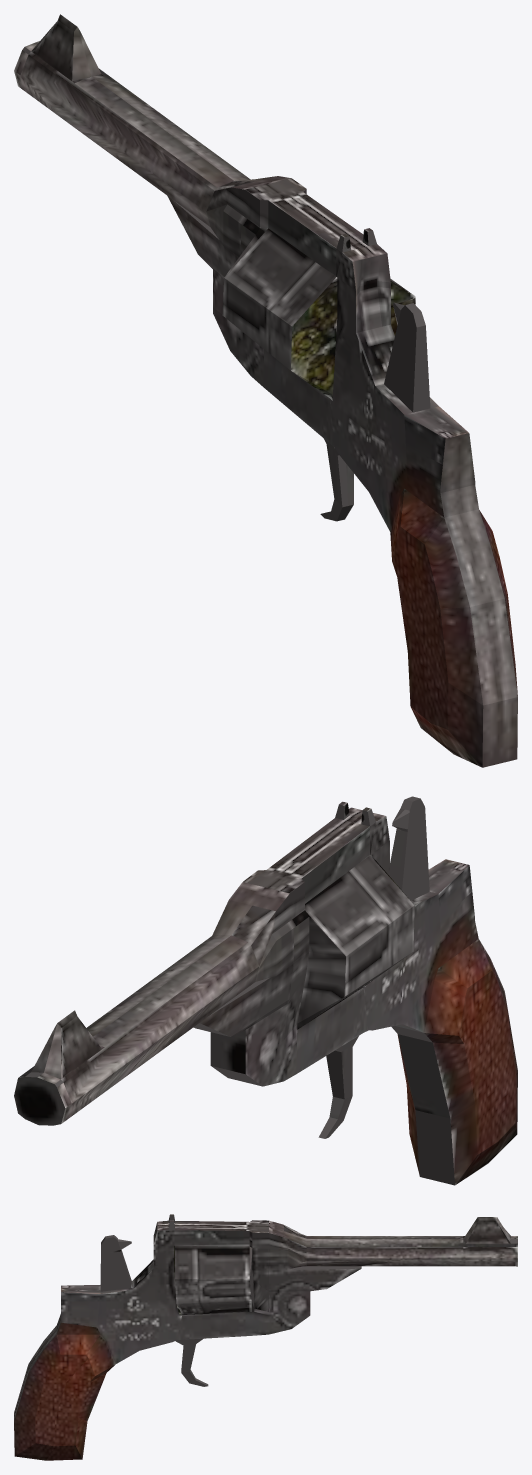
File: clergy__catacombs_ps1-style_asset_pack.glb
The picture shows the model from 3 angles, top to bottom: view 1: azimuth 30°, elevation 25°; view 2: azimuth 150°, elevation 25°; view 3: azimuth 270°, elevation 25°; orthographic projection. The views are drawn at different scales.
Visible parts, largest first — view 1: Cube_Material_0; view 2: Cube_Material_0; view 3: Cube_Material_0.
Boxes of the visible parts, <box> form: Cube_Material_0: <box>14,14,517,767</box>; Cube_Material_0: <box>14,796,517,1185</box>; Cube_Material_0: <box>14,1214,517,1460</box>.
Bounding box in the file's own units: 0.0673 × 0.2271 × 0.4337.
1 material, 1 textured.
